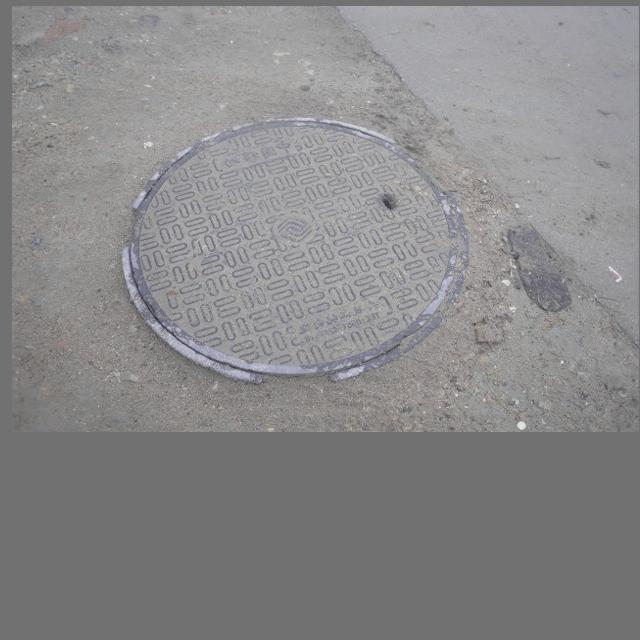good: (123, 116, 467, 383)
